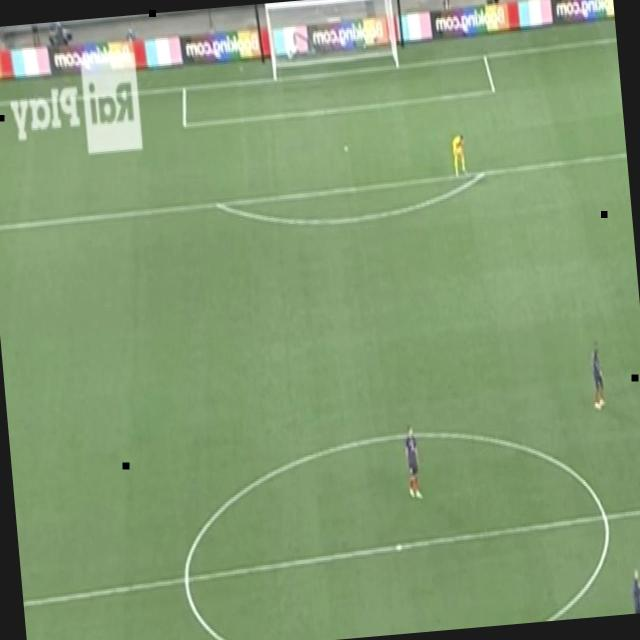player-white: (402, 423, 423, 503), (588, 341, 608, 413), (451, 132, 468, 178), (628, 567, 640, 613)
